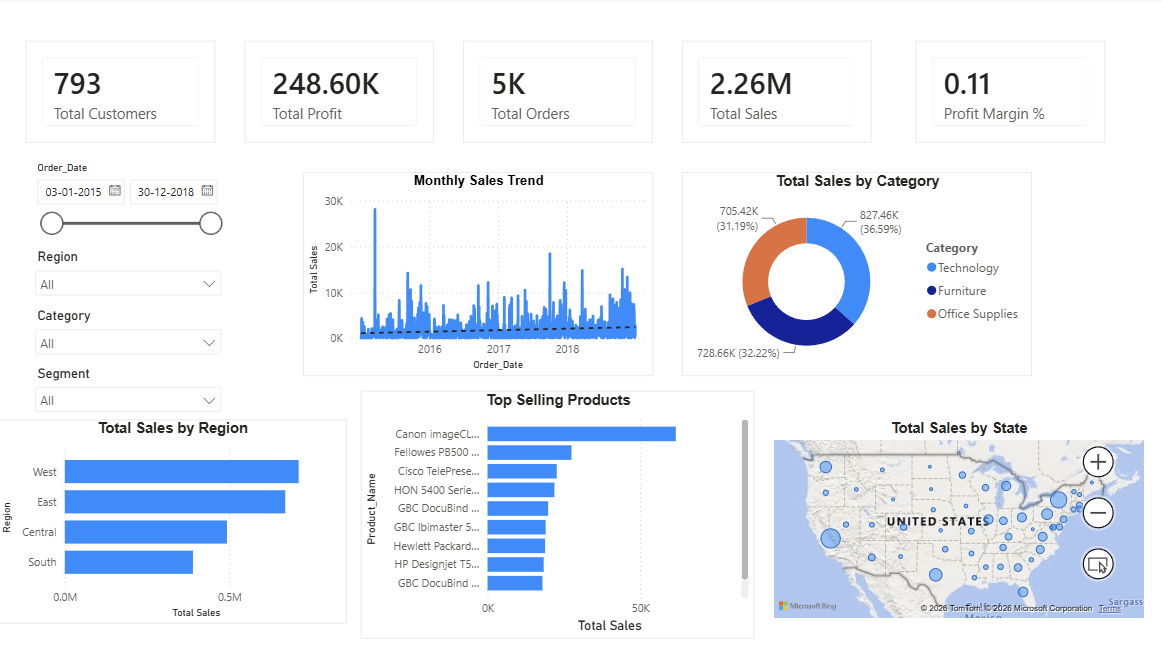

The dashboard page shown, as its layout file describes it:
{"tool":"powerbi","page":{"name":"Page 1","canvas":[1280,720],"ordinal":0},"visuals":[{"type":"cardVisual","fields":{"Data":["Sales_Business_Performance.Total Customers"]},"box":[32,48,208,112],"z":0},{"type":"cardVisual","fields":{"Data":["Sales_Business_Performance.Total Profit"]},"box":[272,48,208,112],"z":1000},{"type":"cardVisual","fields":{"Data":["Sales_Business_Performance.Total Orders"]},"box":[512,48,208,112],"z":2000},{"type":"cardVisual","fields":{"Data":["Sales_Business_Performance.Total Sales"]},"box":[752,48,208,112],"z":3000},{"type":"cardVisual","fields":{"Data":["Sales_Business_Performance.Profit Margin %"]},"box":[1008,48,208,112],"z":4000},{"type":"lineChart","title":"Monthly Sales Trend","fields":{"Category":["Sales_Business_Performance.Order_Date"],"Y":["Sales_Business_Performance.Total Sales"]},"box":[336,192,384,224],"z":5000},{"type":"donutChart","fields":{"Y":["Sales_Business_Performance.Total Sales"],"Category":["Sales_Business_Performance.Category"]},"box":[752,192,384,224],"z":6000},{"type":"clusteredBarChart","fields":{"Category":["Sales_Business_Performance.Region"],"Y":["Sales_Business_Performance.Total Sales"]},"box":[0,464,384,224],"z":7000},{"type":"clusteredBarChart","title":"Top Selling Products","fields":{"Category":["Sales_Business_Performance.Product_Name"],"Y":["Sales_Business_Performance.Total Sales"]},"box":[400,464,432,224],"z":8000},{"type":"map","fields":{"Category":["Sales_Business_Performance.State"],"Size":["Sales_Business_Performance.Total Sales"]},"box":[848,464,416,224],"z":9000},{"type":"slicer","fields":{"Values":["Sales_Business_Performance.Order_Date"]},"box":[32,176,224,96],"z":10000},{"type":"slicer","fields":{"Values":["Sales_Business_Performance.Region"]},"box":[32,272,224,64],"z":11000},{"type":"slicer","fields":{"Values":["Sales_Business_Performance.Category"]},"box":[32,336,224,64],"z":12000},{"type":"slicer","fields":{"Values":["Sales_Business_Performance.Segment"]},"box":[32,400,224,64],"z":13000}]}

Visuals, with their boxes in screenshot pixels (x1, y1, x2, y2), scaled from the page's 1280x720 canvas onto the 1162x653 screenshot:
cardVisual - Sales_Business_Performance.Total Customers: x1=29, y1=44, x2=218, y2=145
cardVisual - Sales_Business_Performance.Total Profit: x1=247, y1=44, x2=436, y2=145
cardVisual - Sales_Business_Performance.Total Orders: x1=465, y1=44, x2=654, y2=145
cardVisual - Sales_Business_Performance.Total Sales: x1=683, y1=44, x2=872, y2=145
cardVisual - Sales_Business_Performance.Profit Margin %: x1=915, y1=44, x2=1104, y2=145
"Monthly Sales Trend" lineChart: x1=305, y1=174, x2=654, y2=377
donutChart - Sales_Business_Performance.Total Sales x Sales_Business_Performance.Category: x1=683, y1=174, x2=1031, y2=377
clusteredBarChart - Sales_Business_Performance.Region x Sales_Business_Performance.Total Sales: x1=0, y1=421, x2=349, y2=624
"Top Selling Products" clusteredBarChart: x1=363, y1=421, x2=755, y2=624
map - Sales_Business_Performance.State x Sales_Business_Performance.Total Sales: x1=770, y1=421, x2=1147, y2=624
slicer - Sales_Business_Performance.Order_Date: x1=29, y1=160, x2=232, y2=247
slicer - Sales_Business_Performance.Region: x1=29, y1=247, x2=232, y2=305
slicer - Sales_Business_Performance.Category: x1=29, y1=305, x2=232, y2=363
slicer - Sales_Business_Performance.Segment: x1=29, y1=363, x2=232, y2=421
